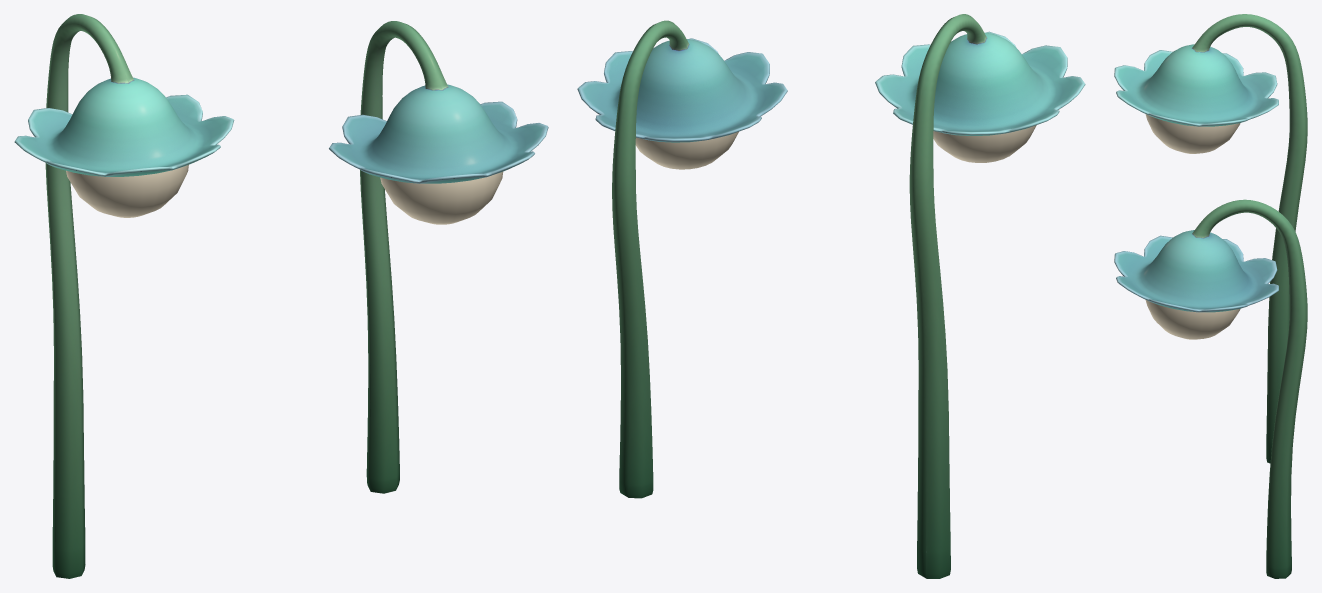
Rendered from LampNT.fbx.
3 renders of one model, left to right at view 1: azimuth 30°, elevation 25°; view 2: azimuth 150°, elevation 25°; view 3: azimuth 270°, elevation 25°, orthographic. The views are drawn at different scales.
Parts seen in each view (by area): view 1: Sphere.003, Sphere.004, Sphere.001, Sphere.007; view 2: Sphere.003, Sphere.004, Sphere.001, Sphere.007; view 3: Sphere.004, Sphere.003, Sphere.007, Sphere.001.
Boxes of the visible parts, bbox=[...] form: Sphere.003: bbox=[14, 14, 234, 578]; Sphere.004: bbox=[329, 21, 548, 493]; Sphere.001: bbox=[380, 171, 503, 224]; Sphere.007: bbox=[66, 164, 188, 217]; Sphere.003: bbox=[875, 14, 1085, 578]; Sphere.004: bbox=[577, 20, 787, 498]; Sphere.001: bbox=[635, 131, 738, 169]; Sphere.007: bbox=[933, 125, 1036, 162]; Sphere.004: bbox=[1114, 199, 1307, 578]; Sphere.003: bbox=[1114, 14, 1307, 463]; Sphere.007: bbox=[1145, 114, 1240, 153]; Sphere.001: bbox=[1145, 300, 1240, 339].
Bounding box in the file's own units: 1015 × 1112 × 437.
Materials: 2 (2 with a texture image).
